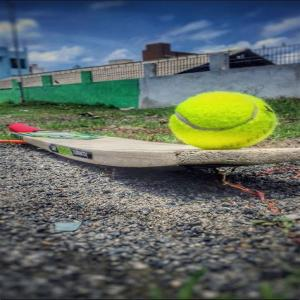Tennis: (168, 90, 283, 152)
